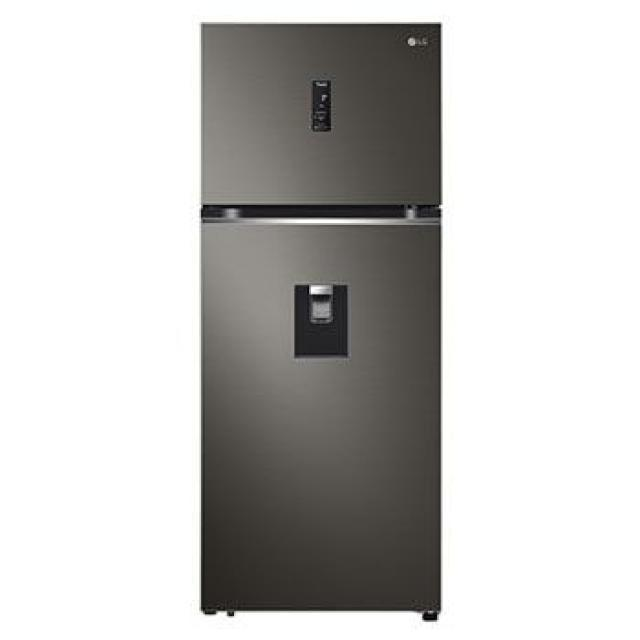obstacle: (198, 20, 442, 620)
